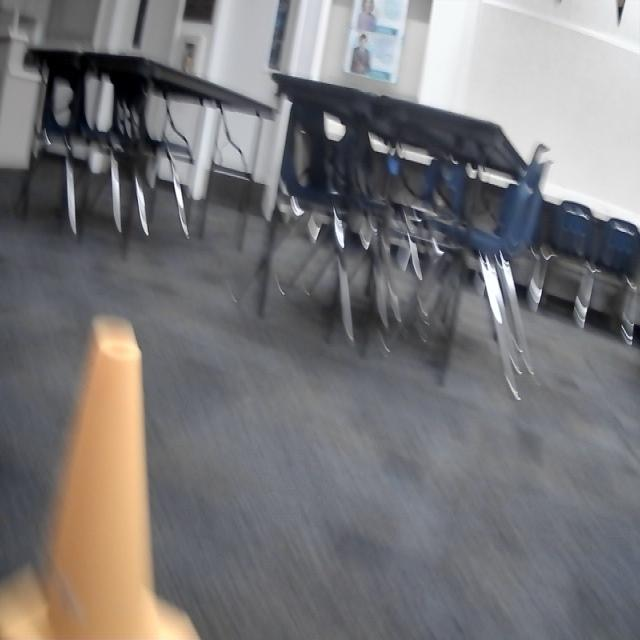cone: (0, 318, 203, 640)
